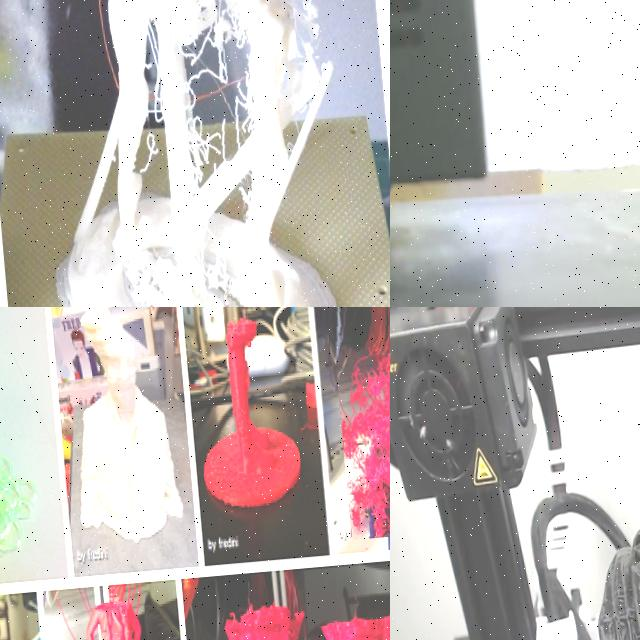spaghetti: (326, 307, 390, 539), (174, 28, 258, 166), (0, 393, 43, 564), (194, 235, 263, 307), (119, 228, 173, 307), (295, 0, 330, 56)
